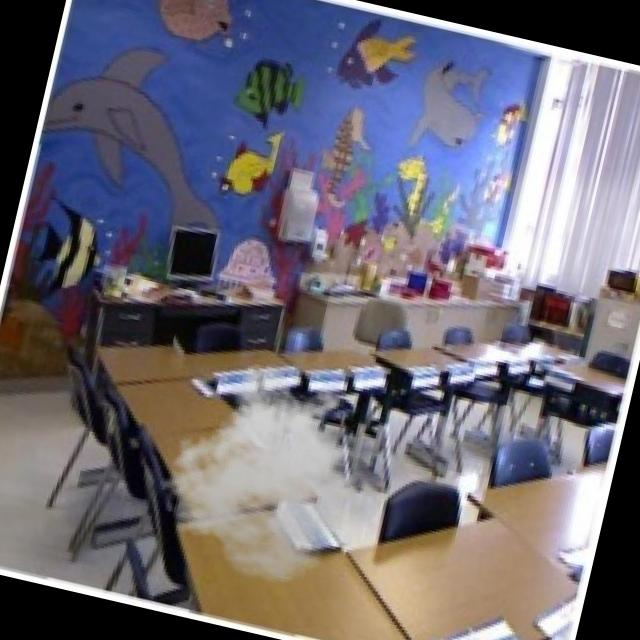Smoke: (143, 346, 405, 605)
